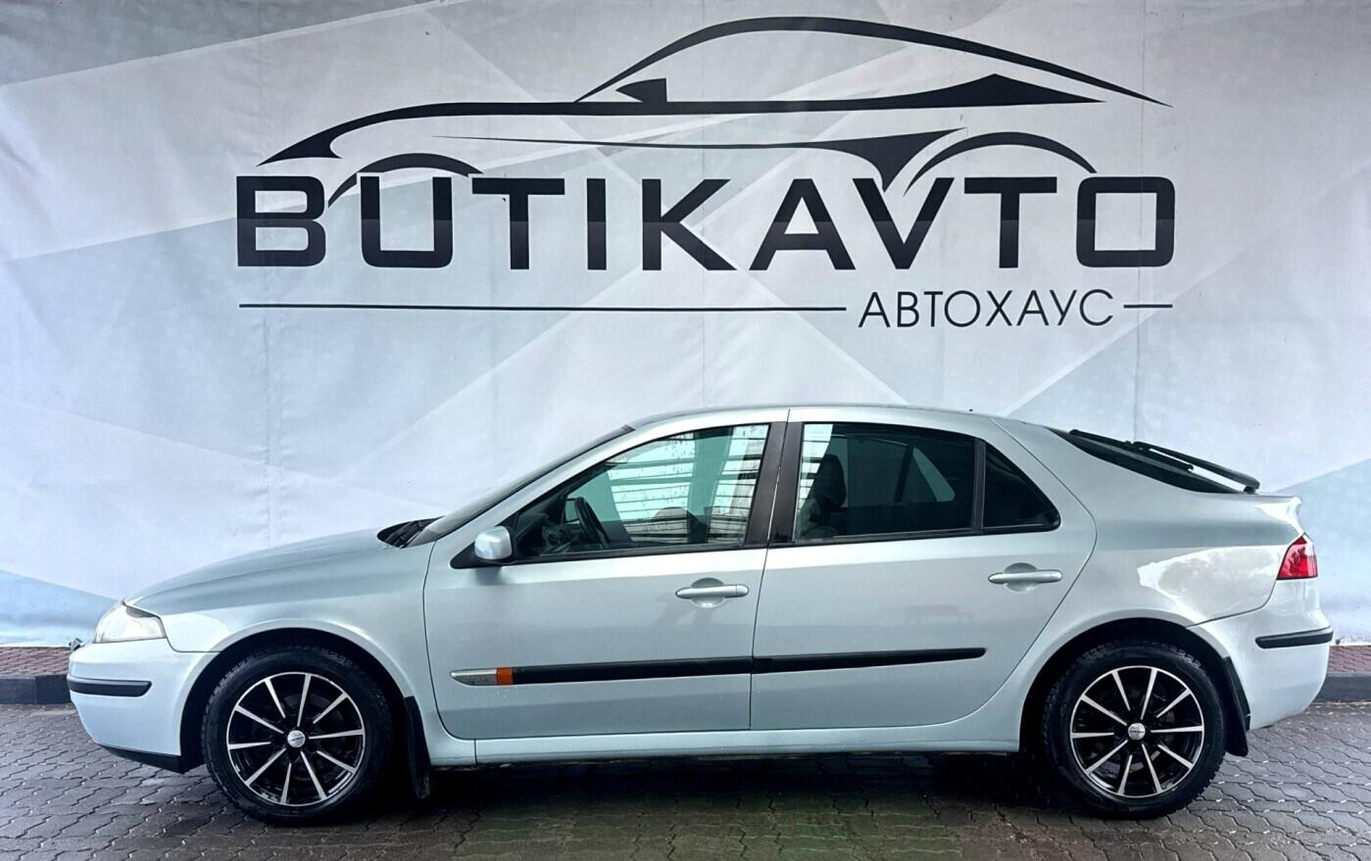Laguna_2001-2005: (71, 402, 1333, 822)
